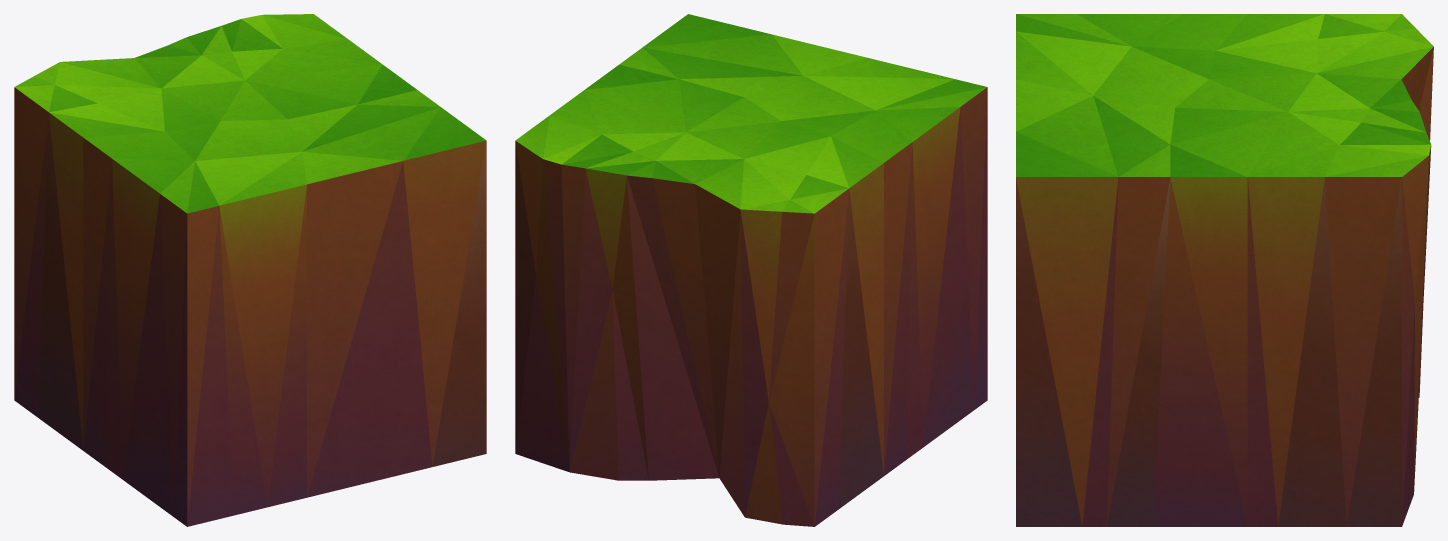
The model's file is Terrain-part-21.fbx.
3 views of the same model, side by side, from view 1: azimuth 30°, elevation 25°; view 2: azimuth 150°, elevation 25°; view 3: azimuth 270°, elevation 25° (orthographic). The views are drawn at different scales.
Parts seen in each view (by area): view 1: Terrain-part-21; view 2: Terrain-part-21; view 3: Terrain-part-21.
Boxes of the visible parts, left/top/right/bottom form: Terrain-part-21: left=14, top=14, right=486, bottom=526; Terrain-part-21: left=515, top=14, right=987, bottom=526; Terrain-part-21: left=1016, top=14, right=1433, bottom=526.
Size of the model in its own units: 3 by 3 by 3.25.
